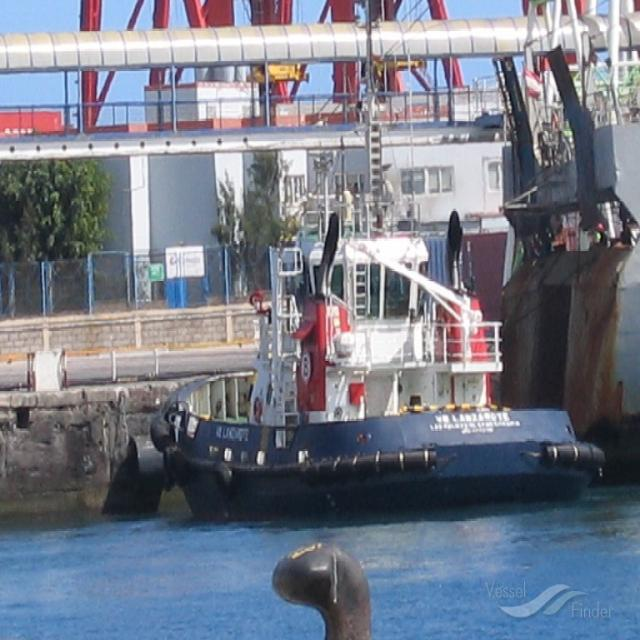tugboat: (150, 189, 602, 515)
